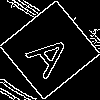A: (24, 25, 83, 82)
